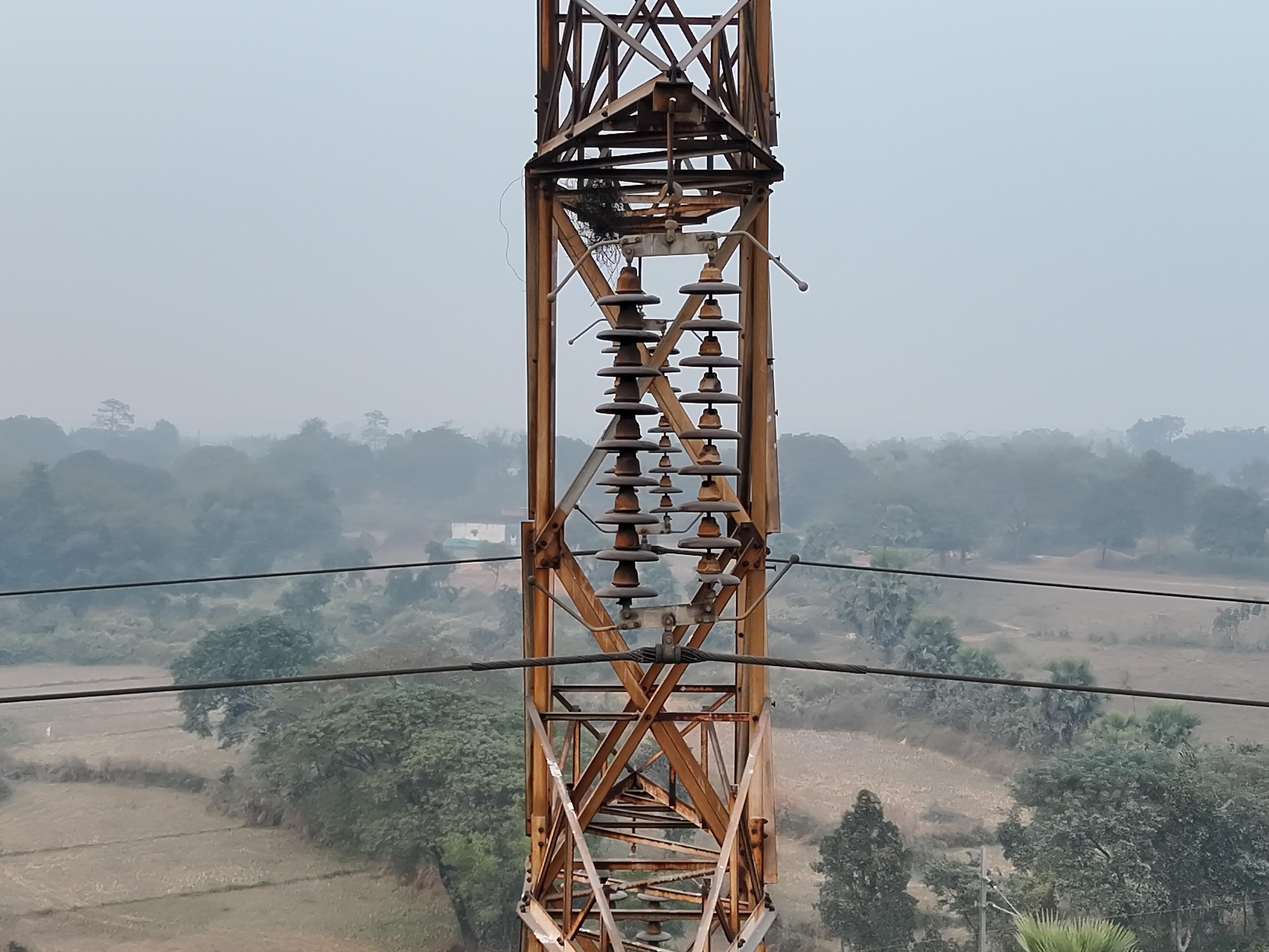broken_insulator: (678, 568, 742, 589)
